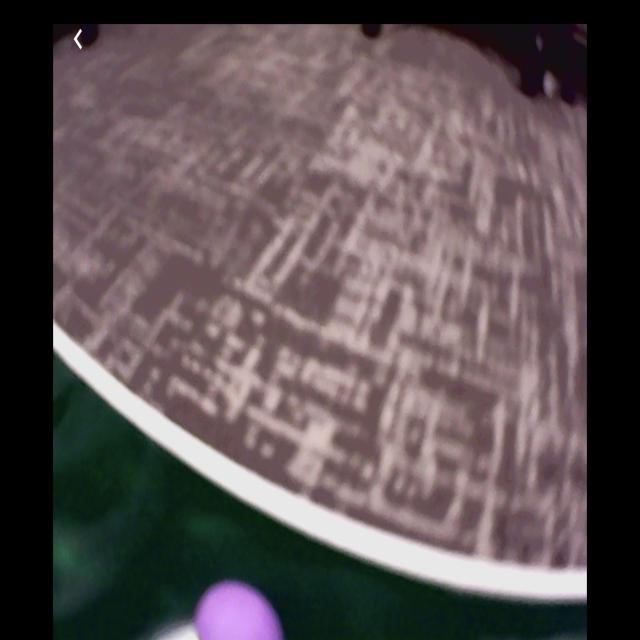ball: (193, 581, 284, 640)
